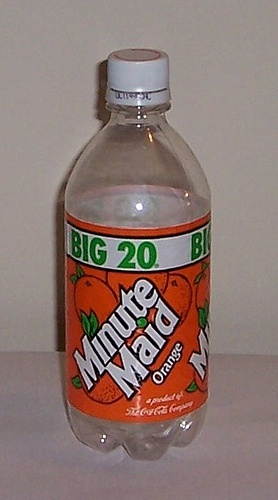emptybottle: (63, 48, 212, 459)
